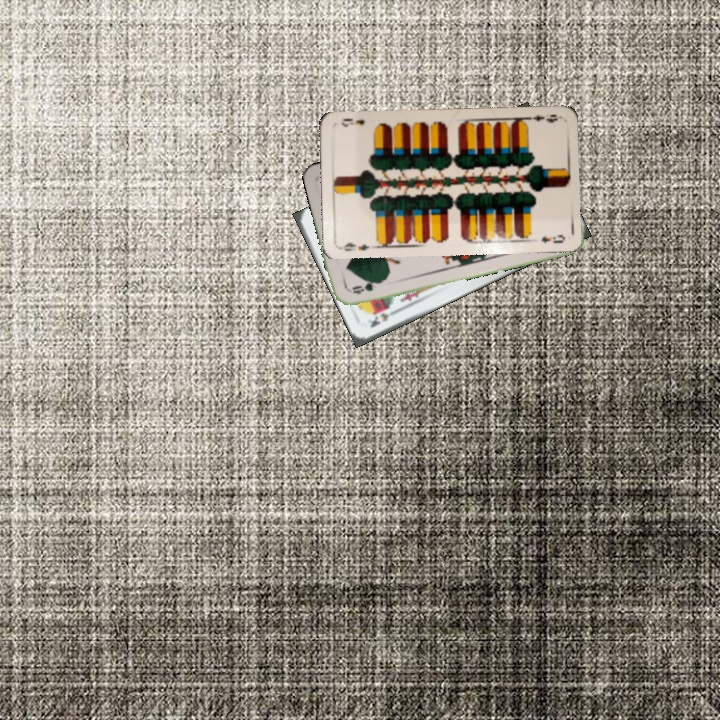E9: (521, 110, 562, 125), (337, 239, 372, 253)
GO: (348, 276, 385, 297)
SK: (366, 306, 401, 330)
